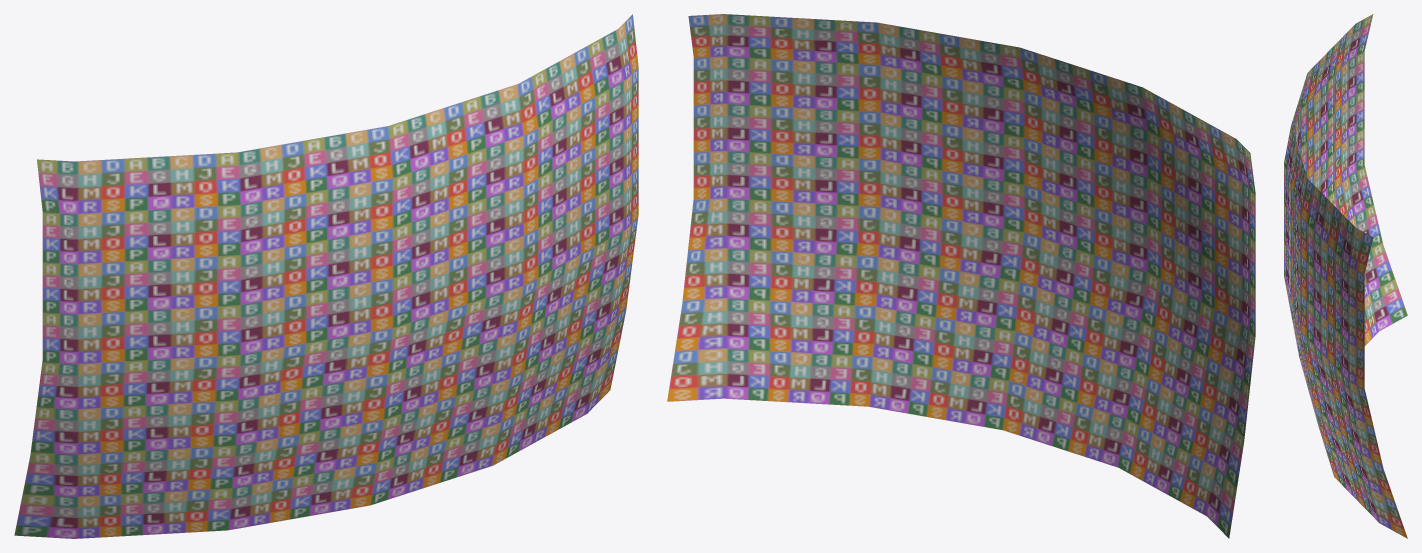
The model's file is flag.obj.
3 renders of one model, left to right at view 1: azimuth 30°, elevation 25°; view 2: azimuth 150°, elevation 25°; view 3: azimuth 270°, elevation 25°, orthographic. The views are drawn at different scales.
Parts seen in each view (by area): view 1: flag; view 2: flag; view 3: flag.
Part boxes in pixels (box(x1,y1,x2,y2)): flag: box(14, 14, 638, 538); flag: box(667, 14, 1255, 538); flag: box(1284, 14, 1407, 538).
Bounding box in the file's own units: 0.675 × 0.425 × 0.1583.
1 material, 1 textured.
